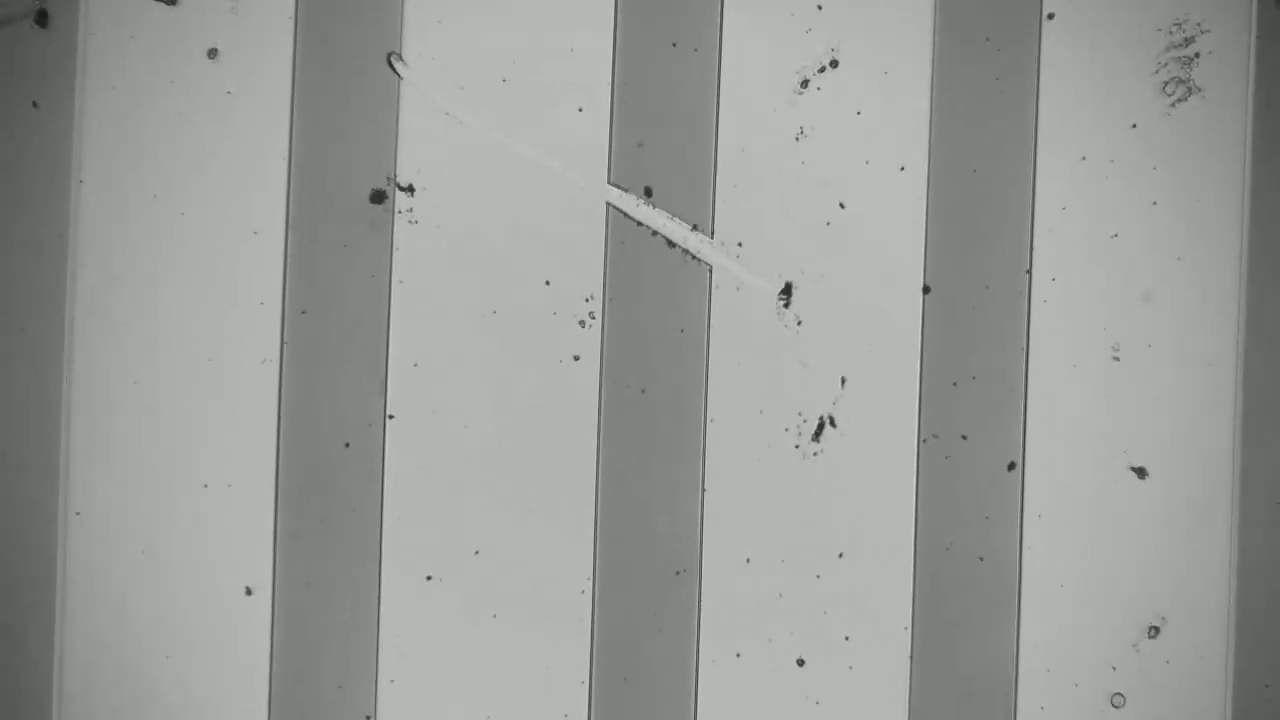Short_circuit: (582, 156, 743, 279)
